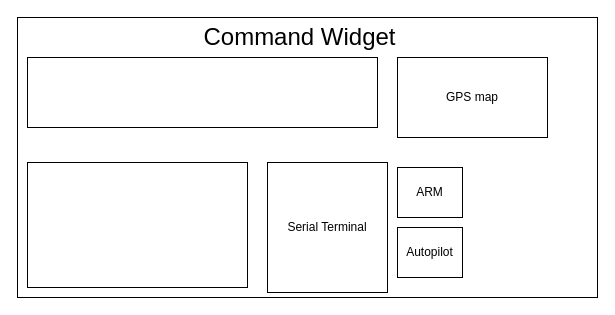
Some shapes in this 615 by 315 pixel diagram are drawn without their labels. The box of each missing label's shape, as (x1, y1, x2, y2) in pixels:
Controls feedback: (26, 162, 248, 288)
Instruments: (26, 56, 378, 128)
